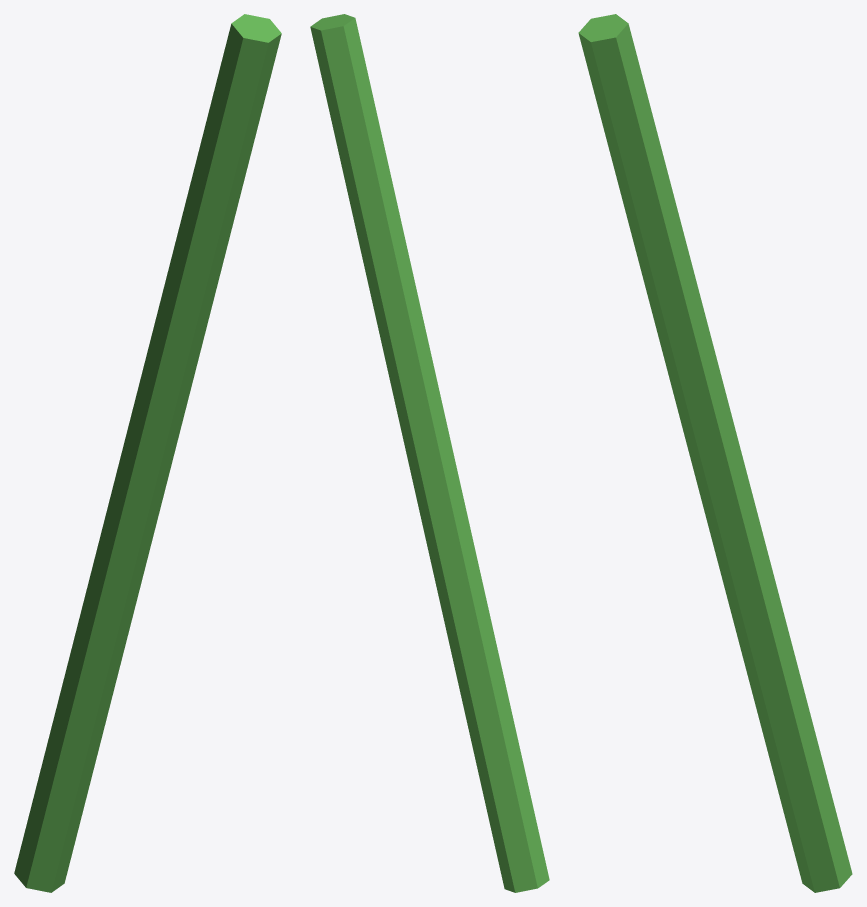
File: vine_whip.dae
3 views of the same model, side by side, from view 1: azimuth 30°, elevation 25°; view 2: azimuth 210°, elevation 25°; view 3: azimuth 270°, elevation 25° (orthographic). The views are drawn at different scales.
Parts seen in each view (by area): view 1: Cylinder; view 2: Cylinder; view 3: Cylinder.
Boxes of the visible parts, bbox=[...] form: Cylinder: bbox=[14, 14, 281, 892]; Cylinder: bbox=[310, 14, 549, 892]; Cylinder: bbox=[578, 14, 852, 892].
Size of the model in its own units: 19.26 by 32.04 by 118.
